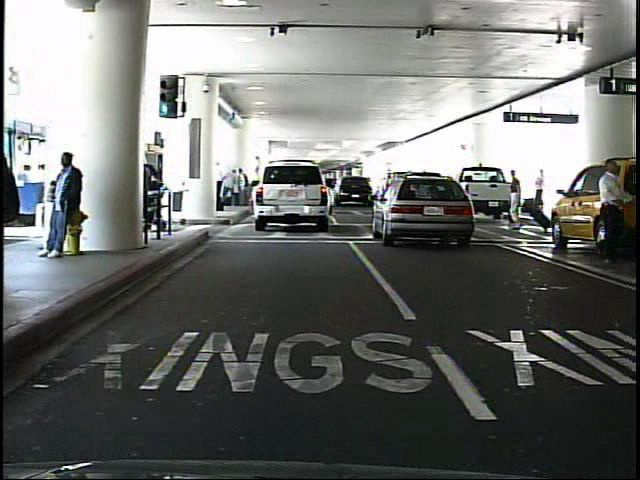person: (592, 156, 634, 265), (45, 149, 84, 260), (504, 168, 524, 232), (535, 167, 548, 215), (238, 167, 253, 207)
